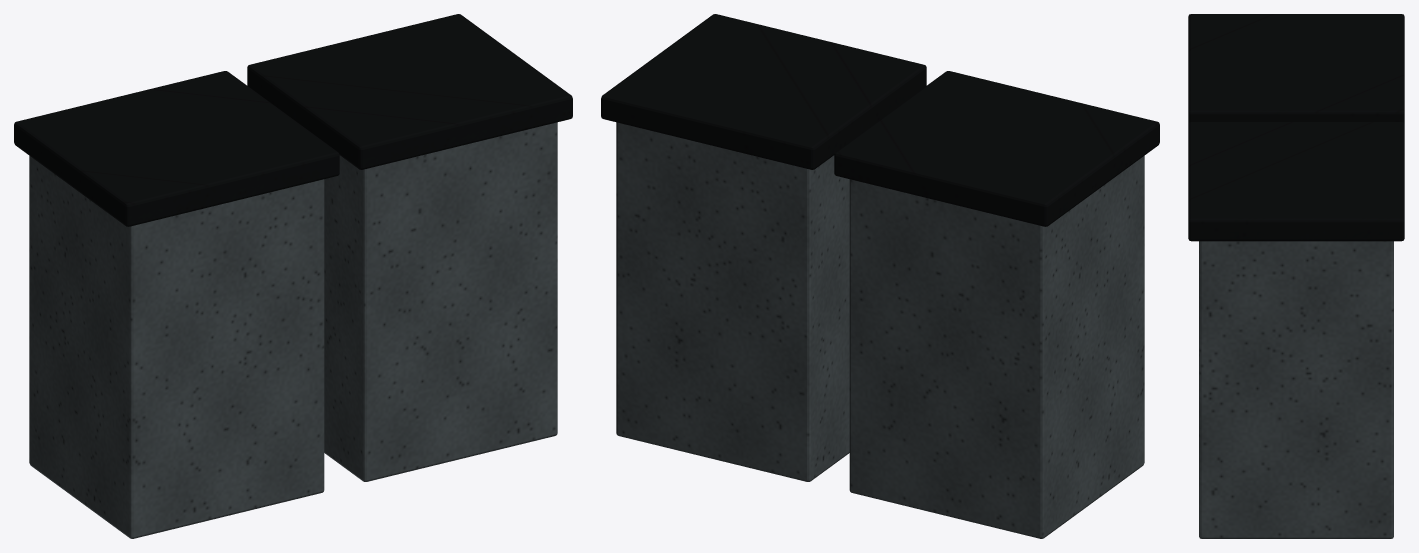
File: PROP-CACC5298FEF3_lod0.glb
3 renders of one model, left to right at view 1: azimuth 30°, elevation 25°; view 2: azimuth 150°, elevation 25°; view 3: azimuth 270°, elevation 25°, orthographic. The views are drawn at different scales.
Visible parts, largest first — view 1: waste_container.004, bin_lid.004; view 2: waste_container.004, bin_lid.004; view 3: waste_container.004, bin_lid.004.
Part boxes in pixels (box(x1,y1,x2,y2)): waste_container.004: box(29, 122, 557, 538); bin_lid.004: box(14, 14, 572, 226); waste_container.004: box(616, 122, 1144, 538); bin_lid.004: box(601, 14, 1159, 226); waste_container.004: box(1199, 241, 1393, 538); bin_lid.004: box(1188, 14, 1404, 241).
Bounding box in the file's own units: 1.38 × 1.01 × 0.61.
2 materials, 2 textured.
